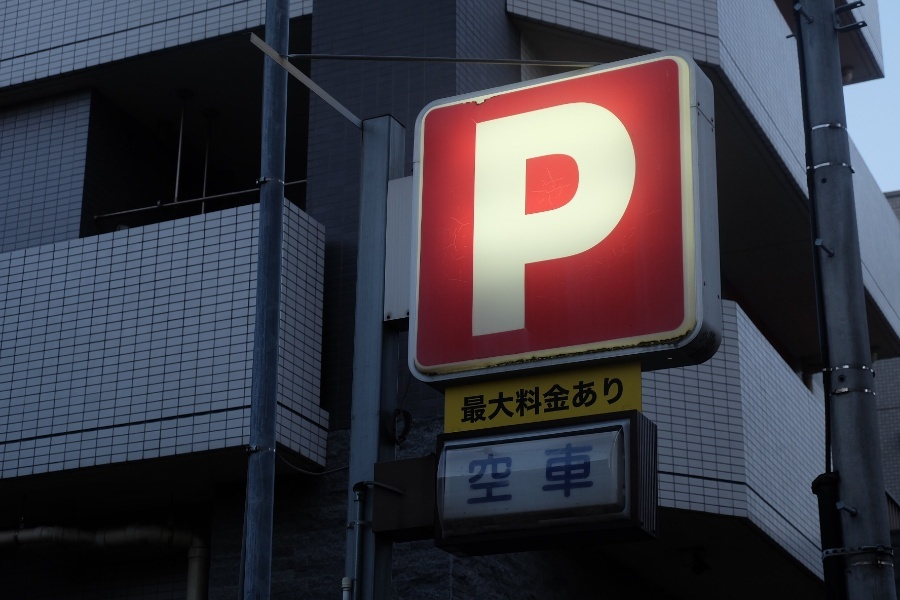text: (481, 91, 496, 339), (497, 91, 512, 339), (513, 91, 528, 339), (529, 91, 544, 339), (545, 91, 560, 339), (561, 91, 576, 339), (577, 91, 592, 339), (593, 91, 608, 339), (609, 91, 624, 339), (625, 91, 640, 339), (577, 441, 593, 505), (481, 441, 496, 505), (497, 441, 512, 505), (513, 441, 528, 505), (529, 441, 544, 505), (545, 441, 560, 505), (561, 441, 576, 505), (465, 376, 480, 425), (481, 376, 496, 425), (497, 376, 512, 425), (513, 376, 528, 425), (529, 376, 544, 425), (545, 376, 560, 425), (561, 376, 576, 425), (577, 376, 592, 425), (593, 376, 608, 425), (609, 376, 624, 425), (470, 441, 480, 505), (478, 91, 480, 339), (462, 376, 464, 425)
